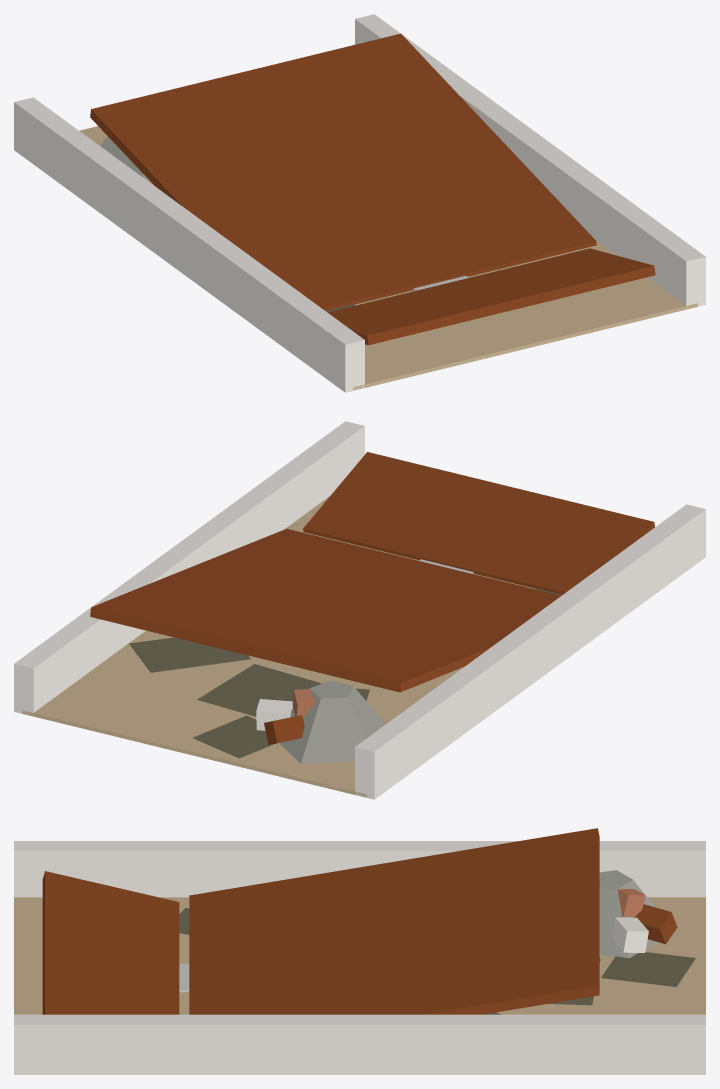
File: SM_Solar_v4_Tejas_LOD1.fbx
3 views of the same model, one above another, from view 1: azimuth 30°, elevation 25°; view 2: azimuth 150°, elevation 25°; view 3: azimuth 270°, elevation 25° (orthographic). The views are drawn at different scales.
Parts seen in each view (by area): view 1: SM_sagunto_vivo_v9_LOD1; view 2: SM_sagunto_vivo_v9_LOD1; view 3: SM_sagunto_vivo_v9_LOD1.
Boxes of the visible parts, box(x1,y1,x2,y2) form: SM_sagunto_vivo_v9_LOD1: box(14, 14, 705, 392); SM_sagunto_vivo_v9_LOD1: box(14, 421, 705, 799); SM_sagunto_vivo_v9_LOD1: box(14, 828, 705, 1074).
Bounding box in the file's own units: 6.28 × 1.23 × 10.
